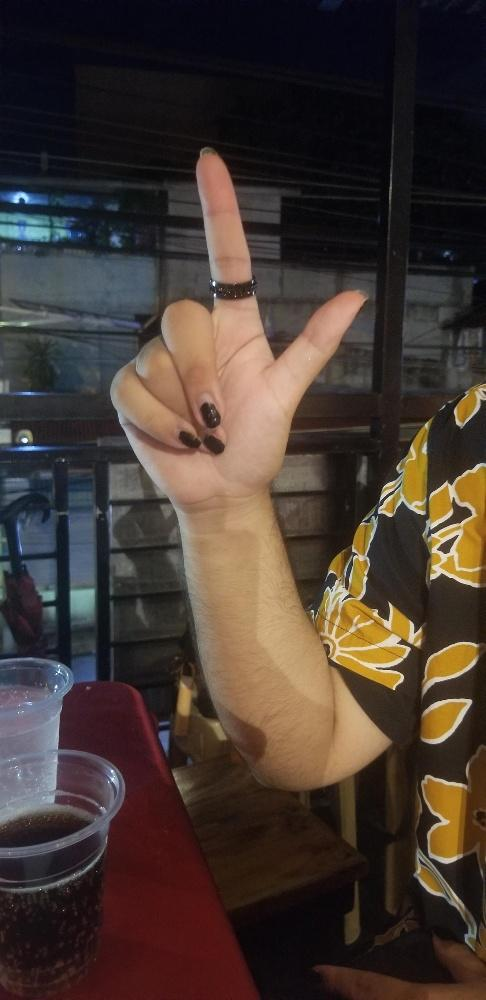l: (104, 146, 366, 506)
